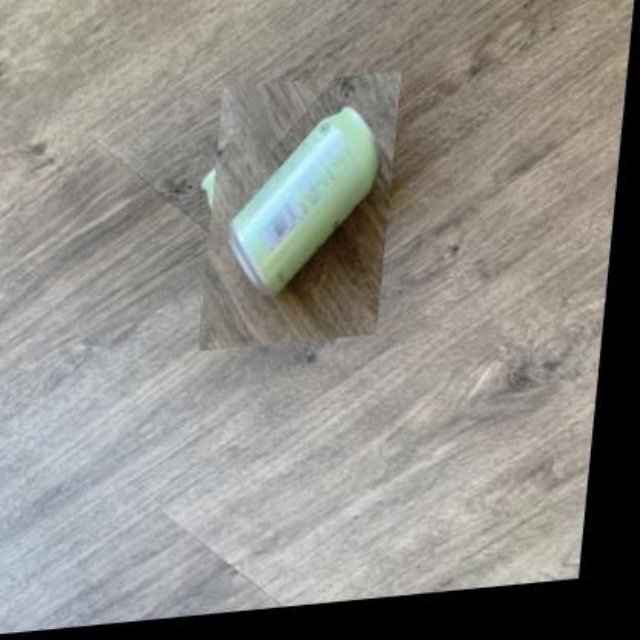trash: (229, 106, 377, 294)
